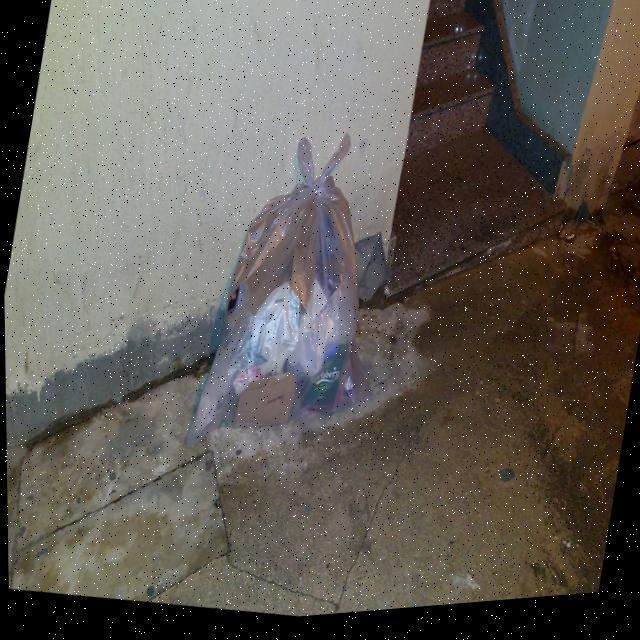Recycled Waste -Grey or Green Bag-: (181, 111, 421, 479)
